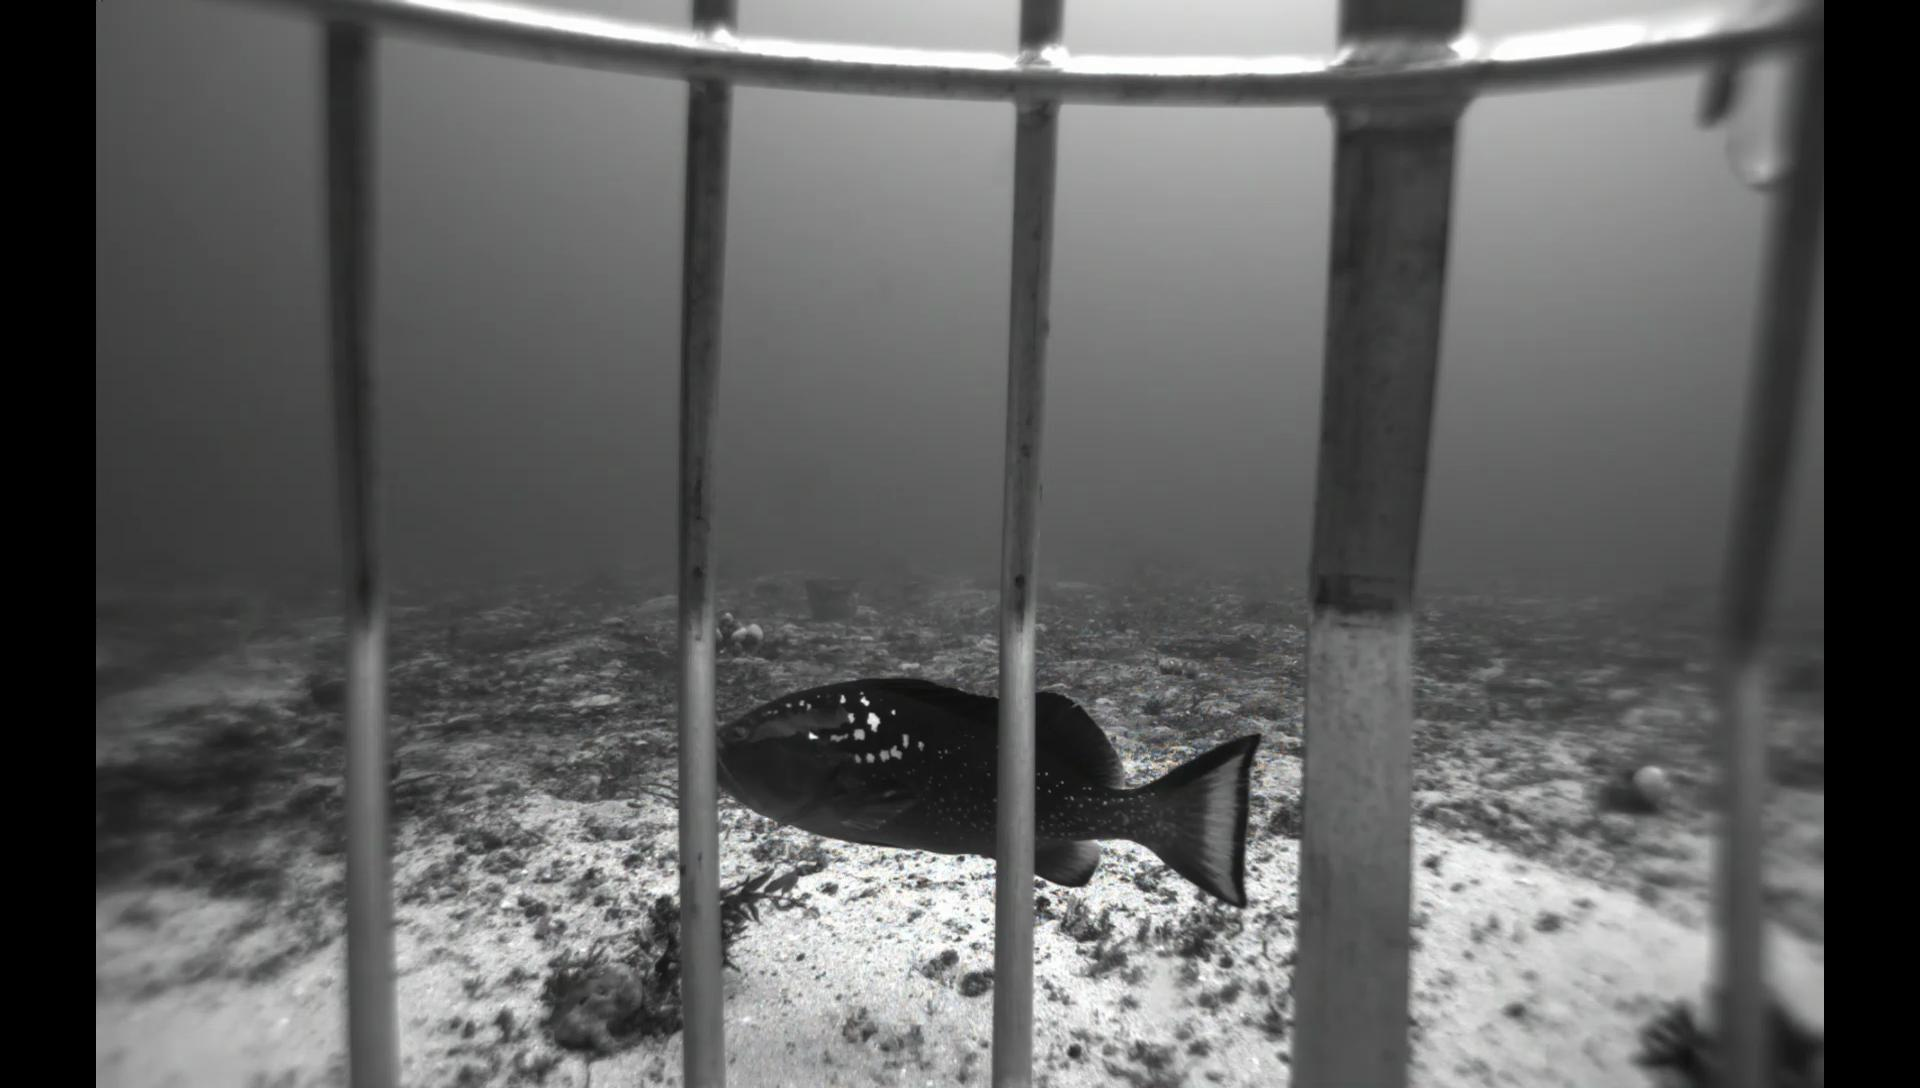CHAETODONOCELLATUS-170260307: (1466, 586, 1505, 616)
EPINEPHELUSMORIO-170021211: (709, 673, 1261, 915)
PRISTIGENYSALTA-170050401: (298, 670, 348, 713)
